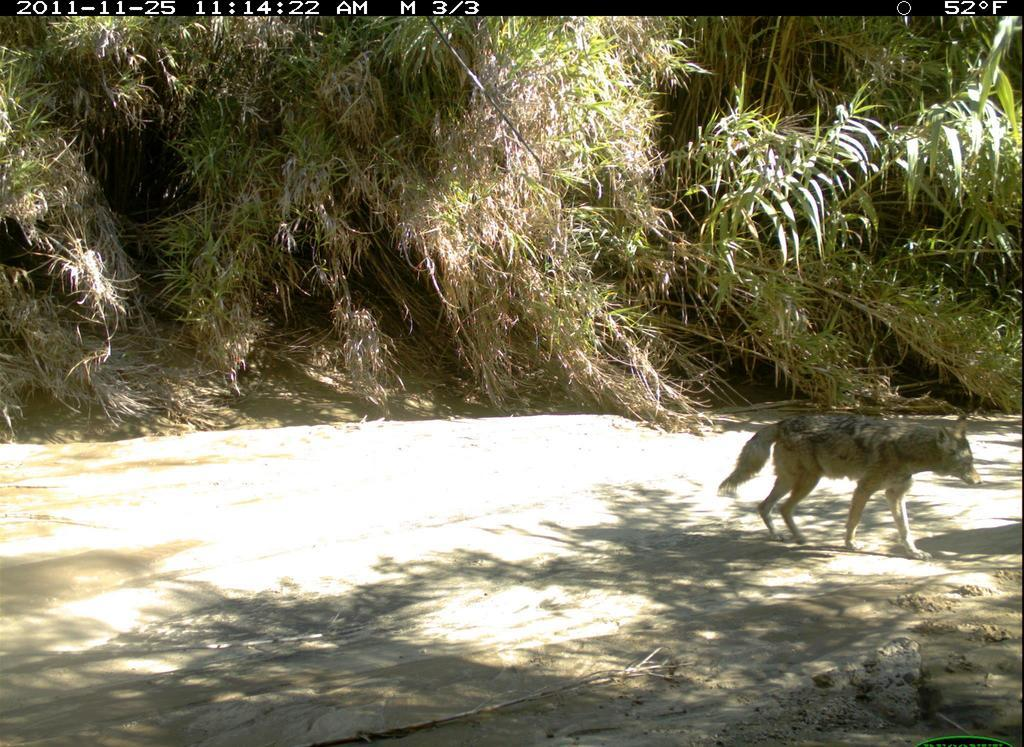coyote: (715, 391, 977, 560)
